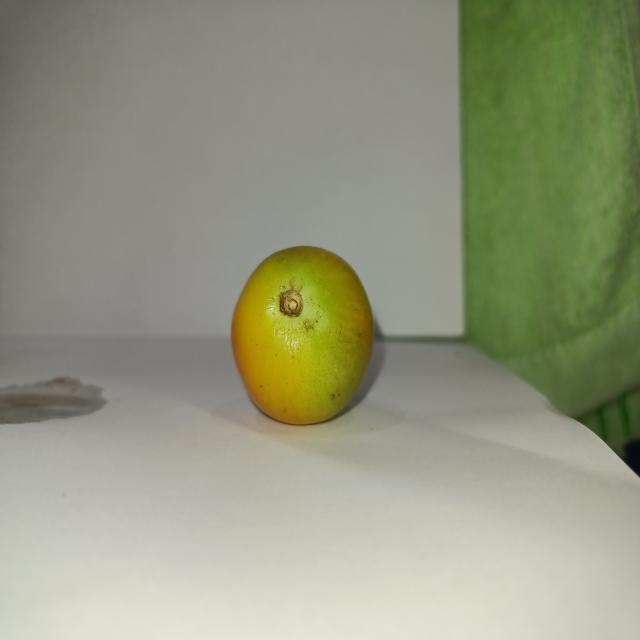Red: (229, 243, 375, 425)
